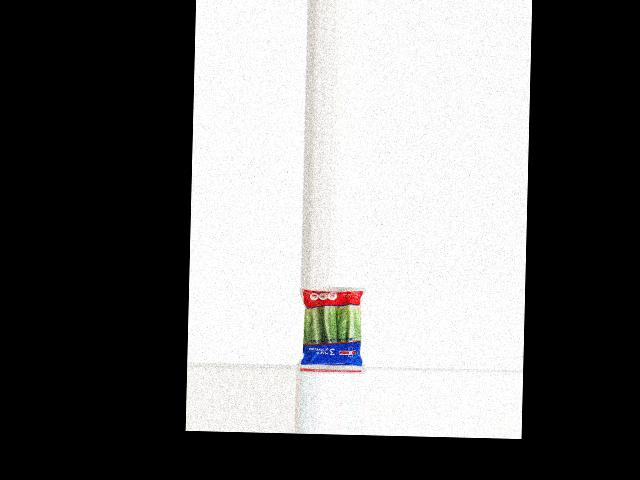lettuce: (299, 285, 364, 368)
